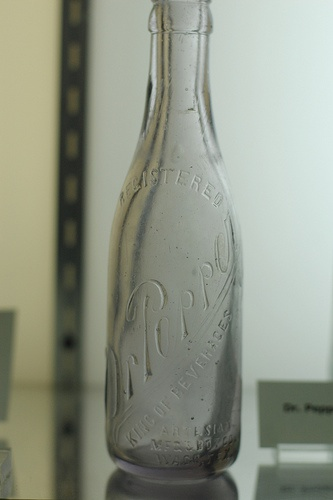emptybottle: (104, 2, 240, 482)
